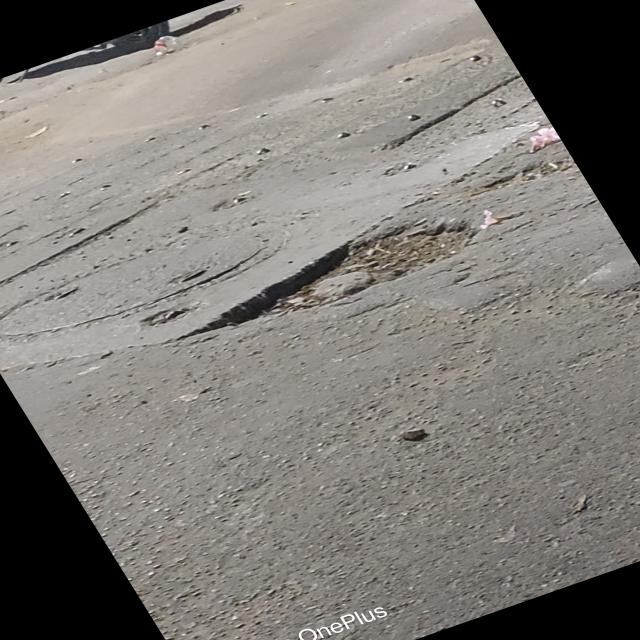potholes: (224, 215, 488, 333)
